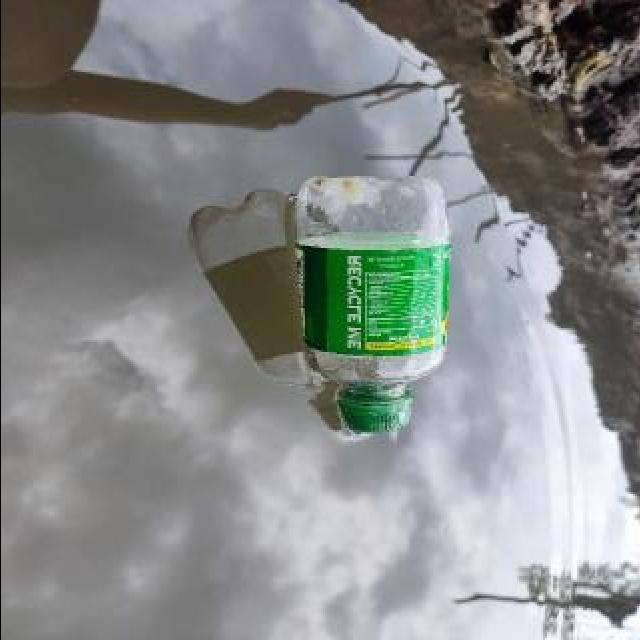Bottle: (292, 162, 458, 444)
